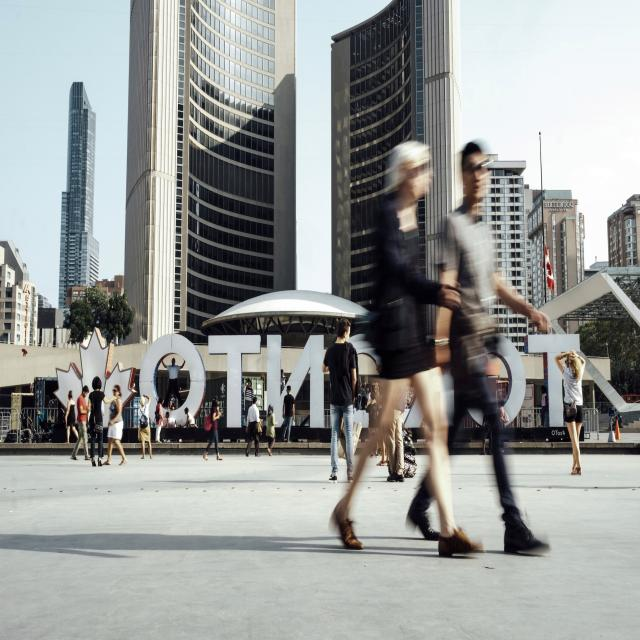adult: (326, 141, 477, 544), (403, 143, 550, 550), (323, 321, 360, 481), (556, 349, 587, 479), (88, 376, 117, 467), (102, 385, 126, 466), (72, 384, 91, 463), (161, 356, 186, 407), (203, 397, 222, 461), (245, 396, 261, 456), (137, 394, 151, 459), (282, 385, 295, 442), (266, 405, 278, 457), (154, 394, 164, 444), (165, 410, 182, 429), (184, 406, 199, 427)
